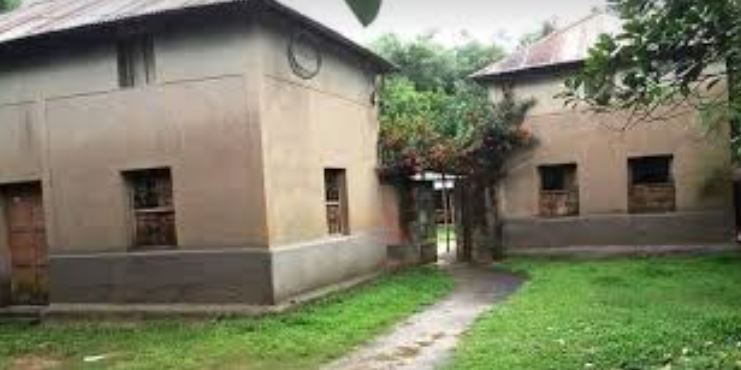Mud House: (11, 5, 402, 312), (455, 13, 732, 275)
